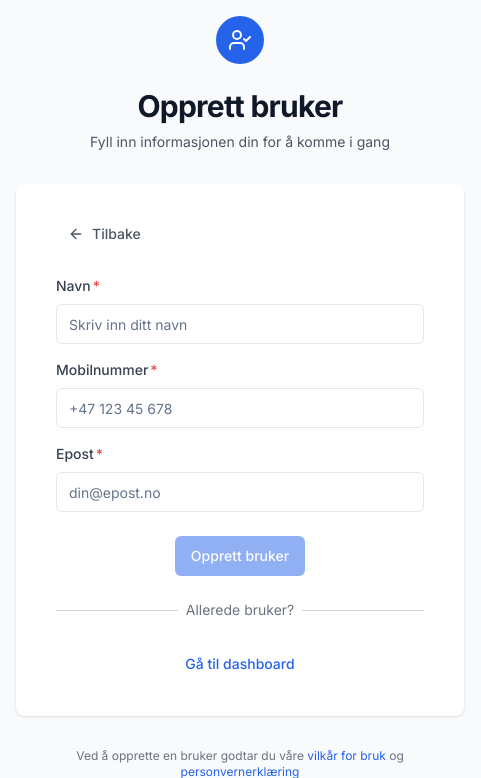
Test: Register › should show loading state during registration
Fill out the form using placeholder text
Type "Test Bruker" into the field with placeholder "Skriv inn ditt navn" at (240, 324), box [56,304,424,344]
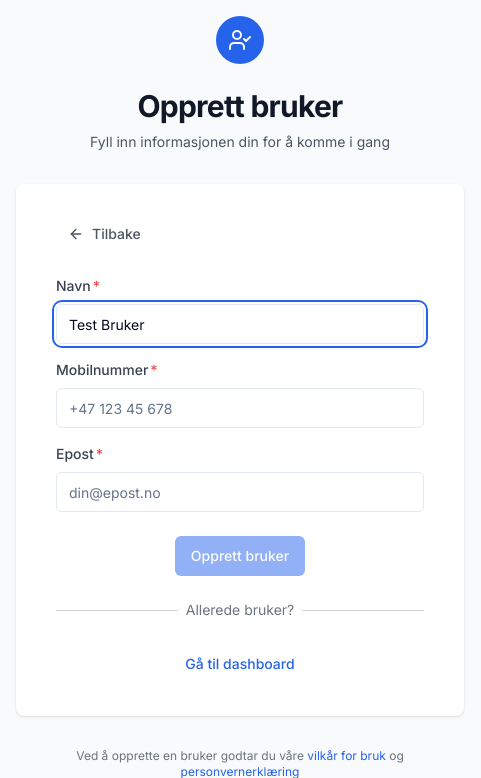
Type "41234567" into the field with placeholder "+47 123 45 678" at (240, 408), box [56,388,424,428]
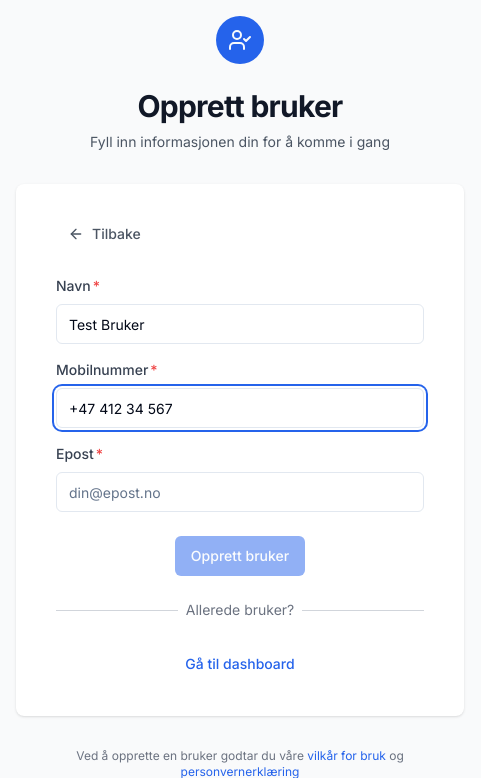
Type "test@example.com" into the field with placeholder "din@epost.no" at (240, 492), box [56,472,424,512]
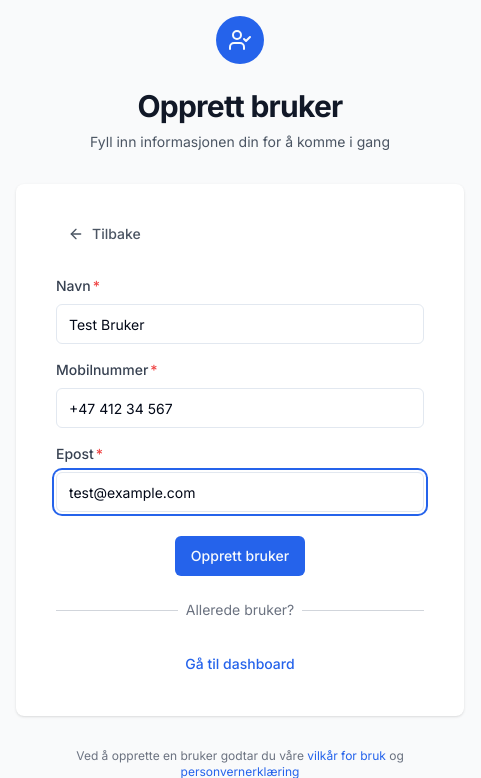
Submit the form
Click the button "Opprett bruker" at (240, 556), box [175,536,305,576]
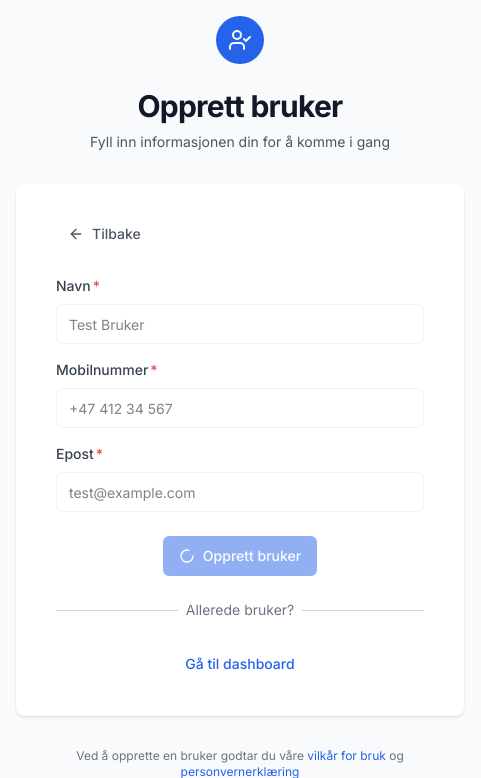
Expected: the button "Opprett bruker" is disabled, [163,536,317,576]
